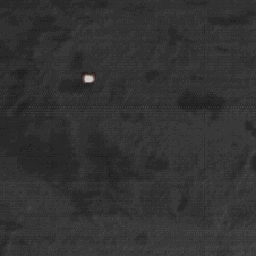Target: (81, 72, 96, 84)
